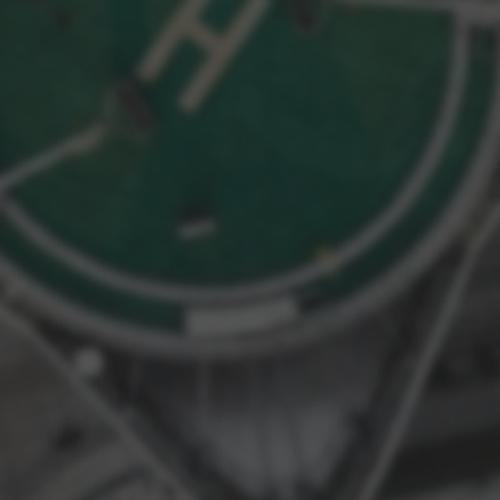Apron: (3, 1, 390, 262)
